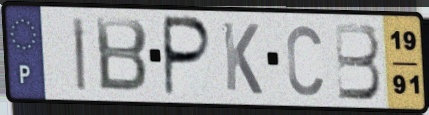B: (93, 15, 150, 96), (332, 21, 384, 102)
C: (284, 22, 325, 99)
I: (70, 14, 88, 93)
K: (220, 19, 265, 98)
P: (162, 14, 215, 100)
